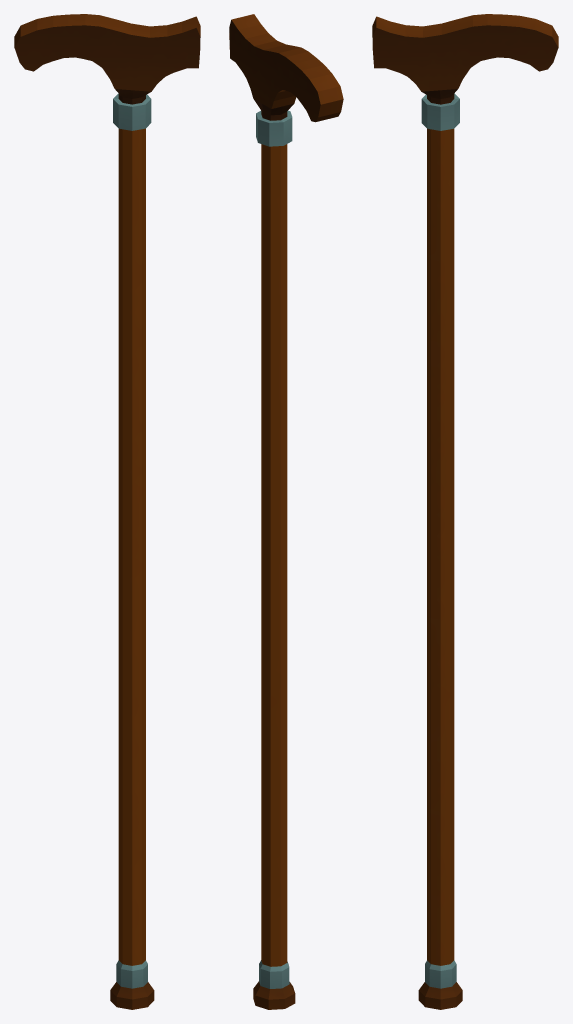
File: StaffBastonModel 1.fbx
3 views of the same model, side by side, from view 1: azimuth 90°, elevation 25°; view 2: azimuth 210°, elevation 25°; view 3: azimuth 270°, elevation 25° (orthographic).
Parts seen in each view (by area): view 1: Sphere; view 2: Sphere; view 3: Sphere.
Boxes of the visible parts, x1,y1,x2,y2 form: Sphere: (14, 14, 200, 1009); Sphere: (229, 14, 343, 1009); Sphere: (372, 14, 558, 1009).
Bounding box in the file's own units: 0.0556 × 1.36 × 0.2333.
Materials: 1 (1 with a texture image).
